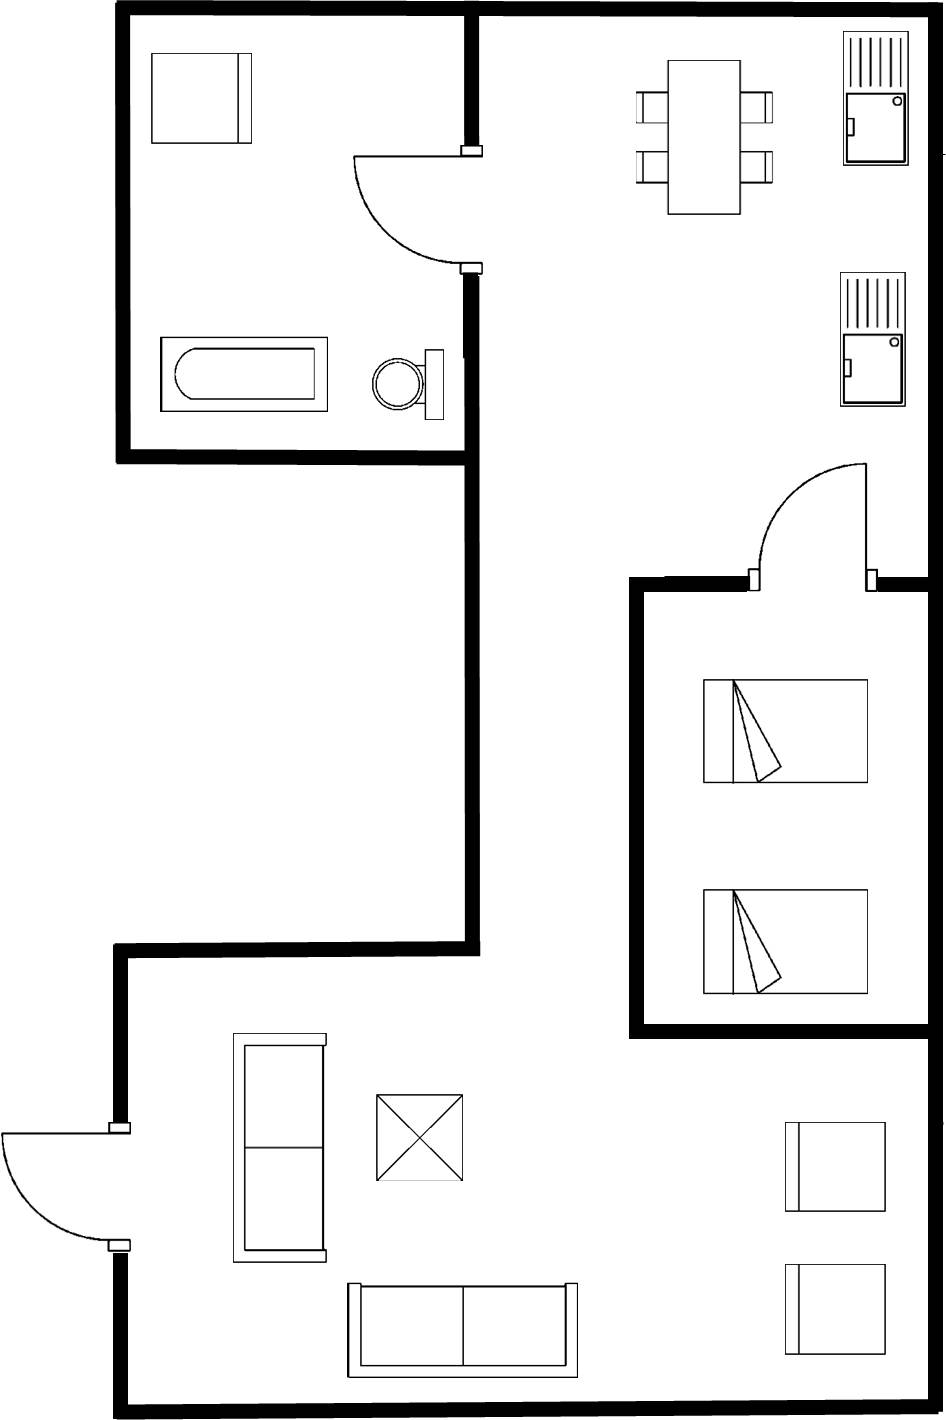bed: (695, 669, 879, 796), (692, 878, 877, 1003)
coffee_table: (367, 1087, 476, 1189)
dining_table: (622, 50, 785, 228)
large_sink: (362, 342, 452, 431)
large_sofa: (223, 1025, 338, 1272), (342, 1276, 588, 1385)
sink: (833, 19, 919, 178), (833, 265, 912, 414)
small_sofa: (773, 1250, 897, 1367), (773, 1112, 899, 1224), (141, 46, 262, 156)
tub: (152, 328, 338, 421)
